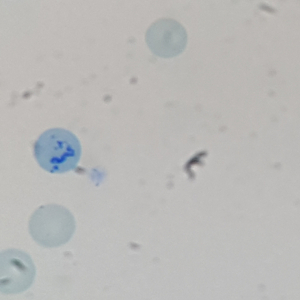aggregate reticulocyte: (32, 127, 83, 175)
erythrocyte: (143, 16, 190, 60)
punctate reticulocyte: (26, 202, 77, 249)
